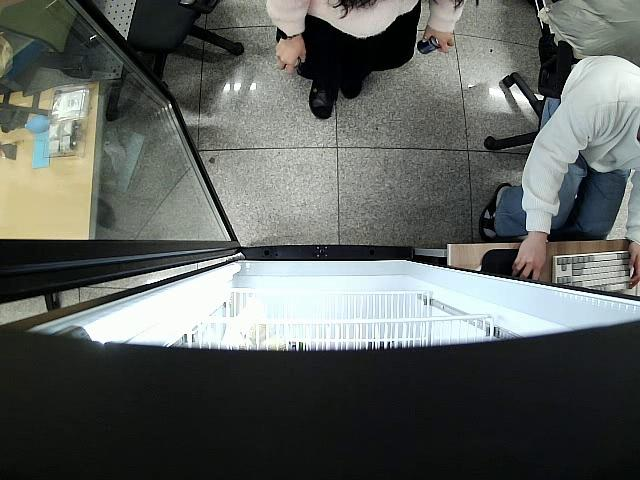00_hand: (508, 237, 550, 284), (274, 40, 307, 76), (419, 23, 455, 55)
16_hot6: (416, 37, 439, 55)
